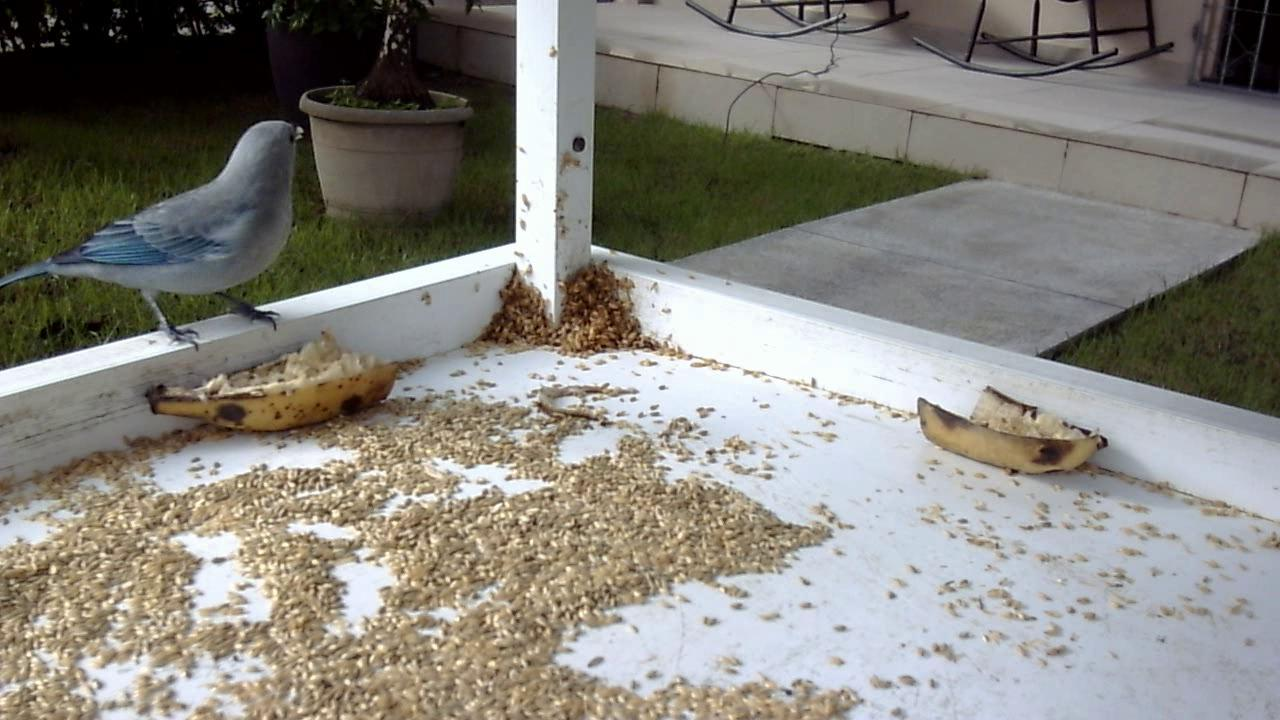sanhaco_da_amazonia: (1, 107, 307, 360)
